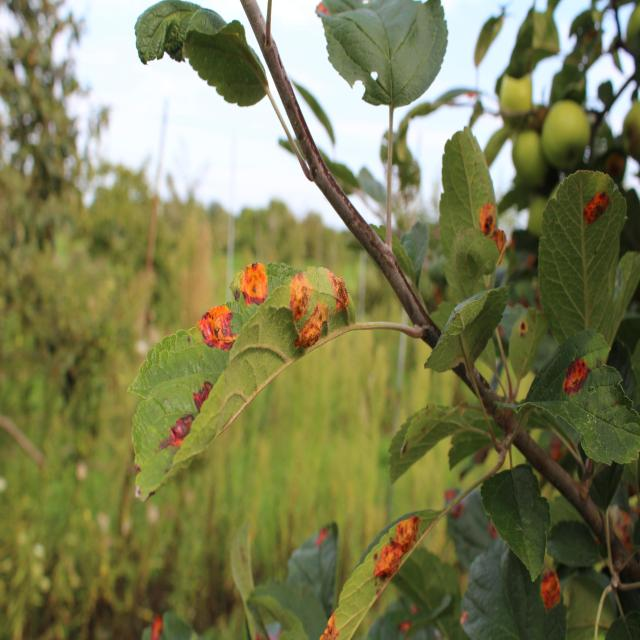rust: (128, 261, 356, 504), (459, 463, 567, 640), (519, 329, 640, 467), (537, 168, 628, 346), (318, 510, 423, 640), (438, 125, 508, 301)
